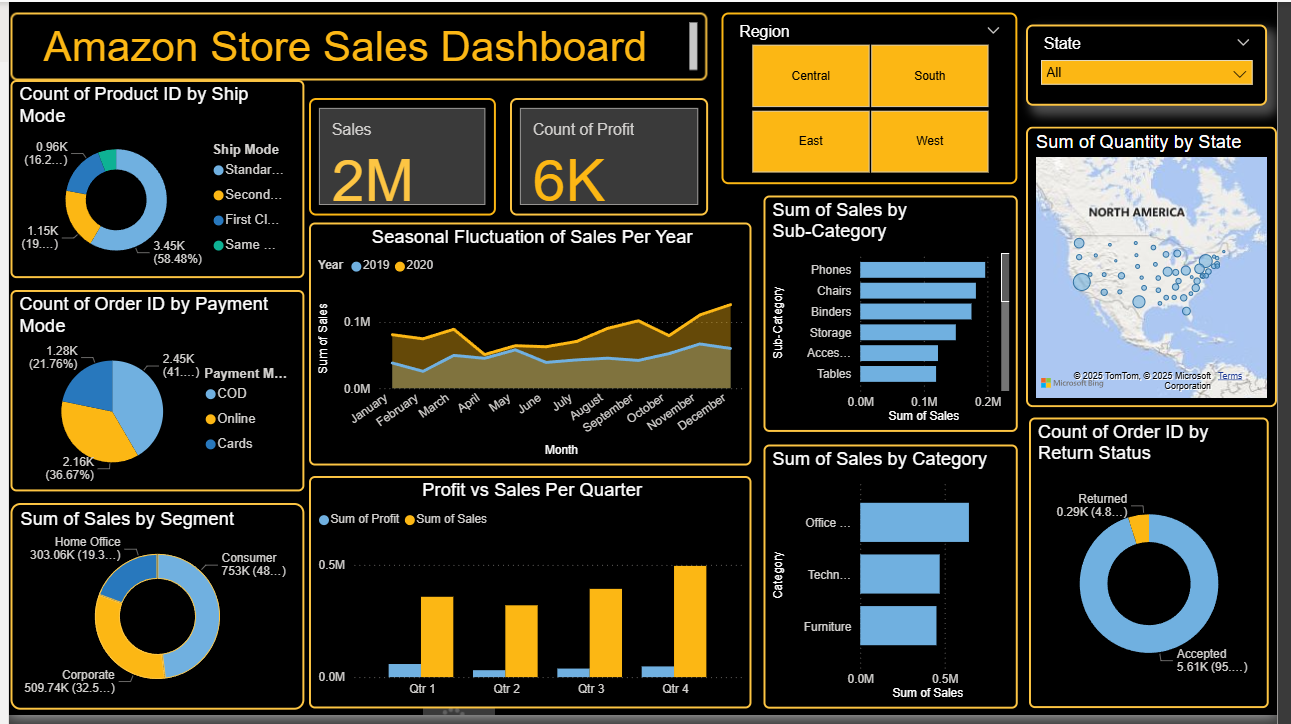

The dashboard page shown, as its layout file describes it:
{"tool":"powerbi","page":{"name":"Page 1","canvas":[1280,720],"ordinal":0},"visuals":[{"type":"clusteredBarChart","fields":{"Category":["Amazon Store Sales Data xlsx - Sheet1 (1).Category"],"Y":["Sum(Amazon Store Sales Data xlsx - Sheet1 (1).Sales)"]},"box":[761.7,446.7,256.7,266.7],"z":0},{"type":"clusteredBarChart","fields":{"Category":["Amazon Store Sales Data xlsx - Sheet1 (1).Sub-Category"],"Y":["Sum(Amazon Store Sales Data xlsx - Sheet1 (1).Sales)"]},"box":[761.7,195,256.7,238.3],"z":1000},{"type":"donutChart","fields":{"Category":["Amazon Store Sales Data xlsx - Sheet1 (1).Segment"],"Y":["Sum(Amazon Store Sales Data xlsx - Sheet1 (1).Sales)"]},"box":[1.7,505,296.7,208.3],"z":2000},{"type":"donutChart","fields":{"Category":["Amazon Store Sales Data xlsx - Sheet1 (1).Ship Mode"],"Y":["CountNonNull(Amazon Store Sales Data xlsx - Sheet1 (1).Product ID)"]},"box":[1.7,78.3,296.7,200],"z":3000},{"type":"donutChart","fields":{"Category":["Amazon Store Sales Data xlsx - Sheet1 (1).Return Status"],"Y":["CountNonNull(Amazon Store Sales Data xlsx - Sheet1 (1).Order ID)"]},"box":[1030,420,241.7,293.3],"z":4000},{"type":"qnaVisual","box":[417.8,706,72.9,14.6],"z":5000},{"type":"pieChart","fields":{"Category":["Amazon Store Sales Data xlsx - Sheet1 (1).Payment Mode"],"Y":["CountNonNull(Amazon Store Sales Data xlsx - Sheet1 (1).Order ID)"]},"box":[1.7,290,296.7,203.3],"z":6000},{"type":"areaChart","title":"Seasonal Fluctuation of Sales Per Year","fields":{"Category":["Amazon Store Sales Data xlsx - Sheet1 (1).Order Date.Variation.Date Hierarchy.Month"],"Y":["Sum(Amazon Store Sales Data xlsx - Sheet1 (1).Sales)"],"Series":["Amazon Store Sales Data xlsx - Sheet1 (1).Order Date.Variation.Date Hierarchy.Year"]},"box":[302.8,222.6,446.7,245.3],"z":7000},{"type":"clusteredColumnChart","title":" Profit vs Sales Per Quarter","fields":{"Category":["Amazon Store Sales Data xlsx - Sheet1 (1).Order Date.Variation.Date Hierarchy.Quarter"],"Y":["Sum(Amazon Store Sales Data xlsx - Sheet1 (1).Profit)","Sum(Amazon Store Sales Data xlsx - Sheet1 (1).Sales)"]},"box":[302.8,478.5,446.7,234.7],"z":8000},{"type":"map","fields":{"Category":["Amazon Store Sales Data xlsx - Sheet1 (1).State"],"Size":["Sum(Amazon Store Sales Data xlsx - Sheet1 (1).Quantity)"]},"box":[1026.7,125,253.3,283.3],"z":9000},{"type":"slicer","fields":{"Values":["Amazon Store Sales Data xlsx - Sheet1 (1).Region"]},"box":[720,10,298.3,173.3],"z":10000},{"type":"slicer","fields":{"Values":["Amazon Store Sales Data xlsx - Sheet1 (1).State"]},"box":[1026.7,23.3,243.3,81.7],"z":11000},{"type":"cardVisual","fields":{"Data":["Sum(Amazon Store Sales Data xlsx - Sheet1 (1).Sales)"]},"box":[303.3,96.7,188.3,118.3],"z":12000},{"type":"cardVisual","fields":{"Data":["CountNonNull(Amazon Store Sales Data xlsx - Sheet1 (1).Profit)"]},"box":[505,96.7,200,118.3],"z":13000},{"type":"textbox","box":[1.7,10,703.3,68.3],"z":14000}]}

Visuals, with their boxes in screenshot pixels (x1, y1, x2, y2), scaled from the page's 1280x720 canvas onto the 1291x724 screenshot:
clusteredBarChart - Amazon Store Sales Data xlsx - Sheet1 (1).Category x Sum(Amazon Store Sales Data xlsx - Sheet1 (1).Sales): x1=768 y1=449 x2=1027 y2=717
clusteredBarChart - Amazon Store Sales Data xlsx - Sheet1 (1).Sub-Category x Sum(Amazon Store Sales Data xlsx - Sheet1 (1).Sales): x1=768 y1=196 x2=1027 y2=436
donutChart - Amazon Store Sales Data xlsx - Sheet1 (1).Segment x Sum(Amazon Store Sales Data xlsx - Sheet1 (1).Sales): x1=2 y1=508 x2=301 y2=717
donutChart - Amazon Store Sales Data xlsx - Sheet1 (1).Ship Mode x CountNonNull(Amazon Store Sales Data xlsx - Sheet1 (1).Product ID): x1=2 y1=79 x2=301 y2=280
donutChart - Amazon Store Sales Data xlsx - Sheet1 (1).Return Status x CountNonNull(Amazon Store Sales Data xlsx - Sheet1 (1).Order ID): x1=1039 y1=422 x2=1283 y2=717
qnaVisual: x1=421 y1=710 x2=495 y2=723
pieChart - Amazon Store Sales Data xlsx - Sheet1 (1).Payment Mode x CountNonNull(Amazon Store Sales Data xlsx - Sheet1 (1).Order ID): x1=2 y1=292 x2=301 y2=496
"Seasonal Fluctuation of Sales Per Year" areaChart: x1=305 y1=224 x2=756 y2=470
" Profit vs Sales Per Quarter" clusteredColumnChart: x1=305 y1=481 x2=756 y2=717
map - Amazon Store Sales Data xlsx - Sheet1 (1).State x Sum(Amazon Store Sales Data xlsx - Sheet1 (1).Quantity): x1=1036 y1=126 x2=1290 y2=411
slicer - Amazon Store Sales Data xlsx - Sheet1 (1).Region: x1=726 y1=10 x2=1027 y2=184
slicer - Amazon Store Sales Data xlsx - Sheet1 (1).State: x1=1036 y1=23 x2=1281 y2=106
cardVisual - Sum(Amazon Store Sales Data xlsx - Sheet1 (1).Sales): x1=306 y1=97 x2=496 y2=216
cardVisual - CountNonNull(Amazon Store Sales Data xlsx - Sheet1 (1).Profit): x1=509 y1=97 x2=711 y2=216
textbox: x1=2 y1=10 x2=711 y2=79
